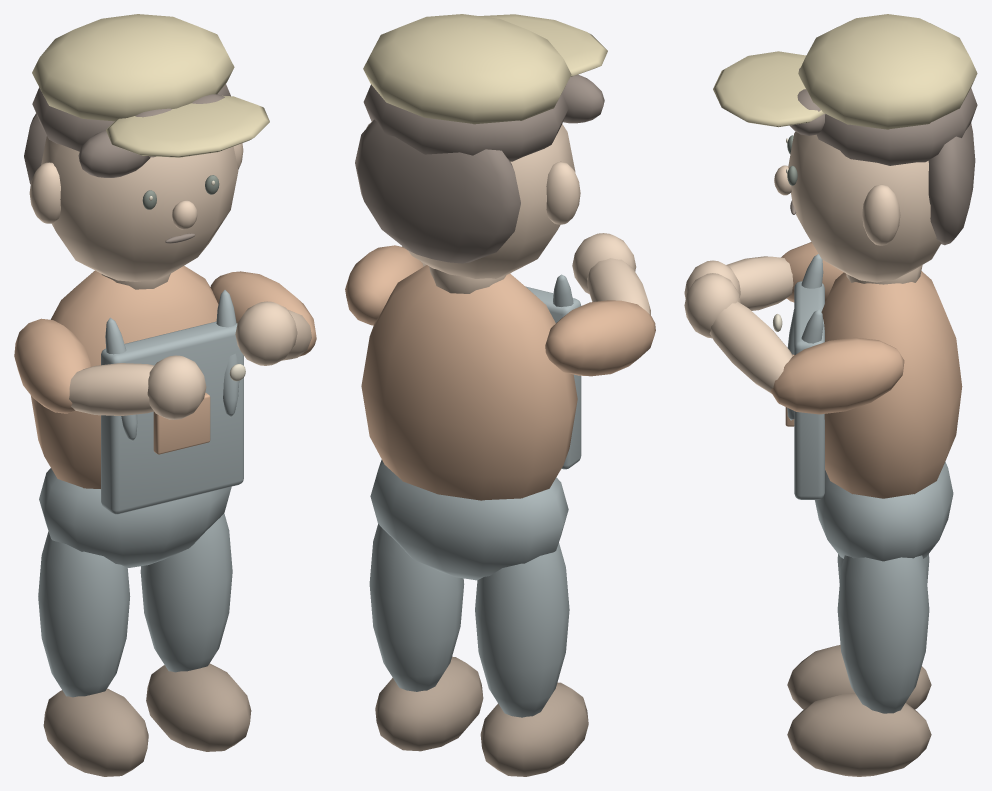
File: jeff-work.glb
The picture shows the model from 3 angles, left to right: view 1: azimuth 30°, elevation 25°; view 2: azimuth 150°, elevation 25°; view 3: azimuth 270°, elevation 25°; orthographic projection. The views are drawn at different scales.
Parts seen in each view (by area): view 1: Head.014, Cap crown.005, Overall bib.008, Padded shirt.014, Trouser leg.028, Soft trouser seat.014, Trouser leg.029, Rounded boot.029, Rounded boot.028, Cap bill.005, Shirt sleeve.028, Forearm.028 (+12 smaller); view 2: Padded shirt.014, Cap crown.005, Hair back.014, Soft trouser seat.014, Trouser leg.028, Trouser leg.029, Hair crown.014, Rounded boot.028, Rounded boot.029, Shirt sleeve.028, Head.014, Shirt sleeve.029 (+7 smaller); view 3: Padded shirt.014, Cap crown.005, Head.014, Trouser leg.029, Rounded boot.029, Soft trouser seat.014, Shirt sleeve.029, Cap bill.005, Hair crown.014, Forearm.029, Overall bib.008, Hair back.014 (+9 smaller).
Boxes of the visible parts, x1,y1,x2,y2 form: Head.014: (41,136,238,281); Cap crown.005: (32,14,234,121); Overall bib.008: (101,321,243,514); Padded shirt.014: (31,266,218,488); Trouser leg.028: (38,531,130,697); Soft trouser seat.014: (39,468,231,567); Trouser leg.029: (140,513,232,672); Rounded boot.029: (146,663,251,751); Rounded boot.028: (43,688,148,776); Cap bill.005: (106,95,269,157); Shirt sleeve.028: (14,318,91,413); Forearm.028: (69,363,154,415); Padded shirt.014: (361,265,577,500); Cap crown.005: (363,14,571,124); Hair back.014: (355,119,520,263); Soft trouser seat.014: (370,459,568,580); Trouser leg.028: (475,543,569,717); Trouser leg.029: (369,524,464,691); Hair crown.014: (363,84,568,161); Rounded boot.028: (480,682,588,776); Rounded boot.029: (375,656,483,751); Shirt sleeve.028: (545,300,655,376); Head.014: (408,124,575,278); Shirt sleeve.029: (345,245,423,325); Padded shirt.014: (821,271,962,498); Cap crown.005: (798,14,977,129); Head.014: (788,131,941,282); Trouser leg.029: (837,555,929,713); Rounded boot.029: (787,693,931,776); Soft trouser seat.014: (815,462,953,561); Shirt sleeve.029: (770,337,904,414); Cap bill.005: (713,51,824,127); Hair crown.014: (817,88,977,165); Forearm.029: (709,301,792,393); Overall bib.008: (794,281,824,499); Hair back.014: (928,123,975,245).
Bounding box in the file's own units: 0.7416 × 1.84 × 0.6834.
